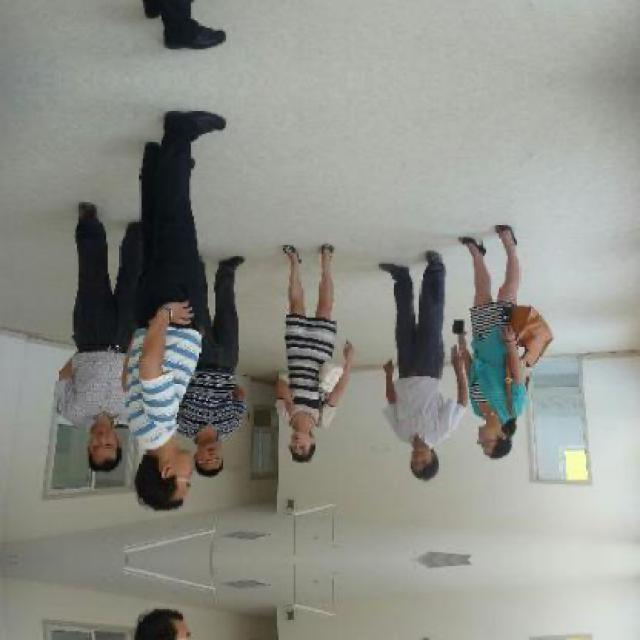sin casco: (114, 433, 201, 535), (253, 428, 339, 480), (392, 427, 458, 492), (184, 420, 235, 488), (57, 412, 121, 466), (461, 410, 521, 465)
